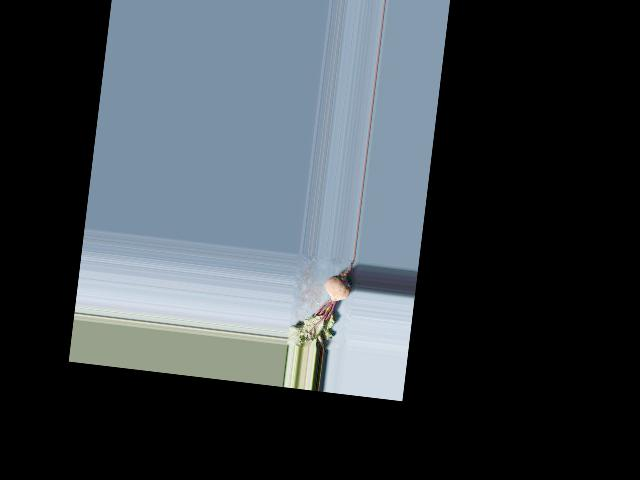beet: (286, 253, 354, 352)
